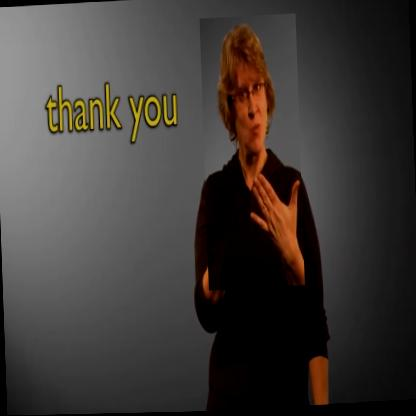ThankYou: (200, 15, 305, 292)
